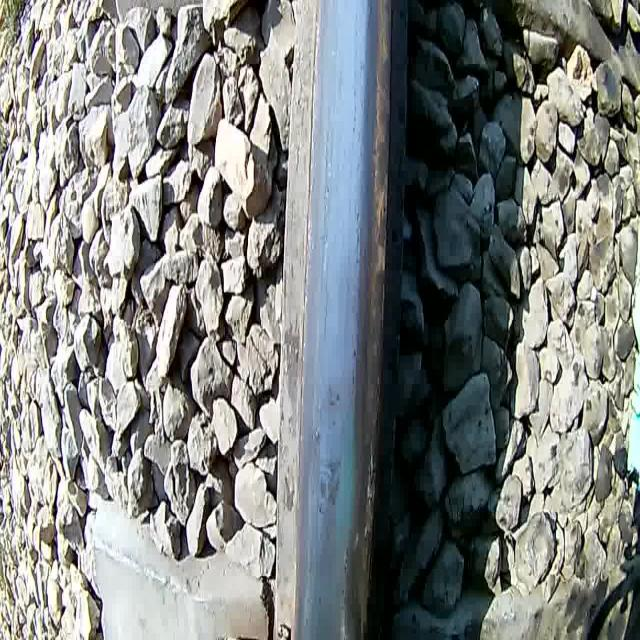Squats: (305, 378, 349, 523)
